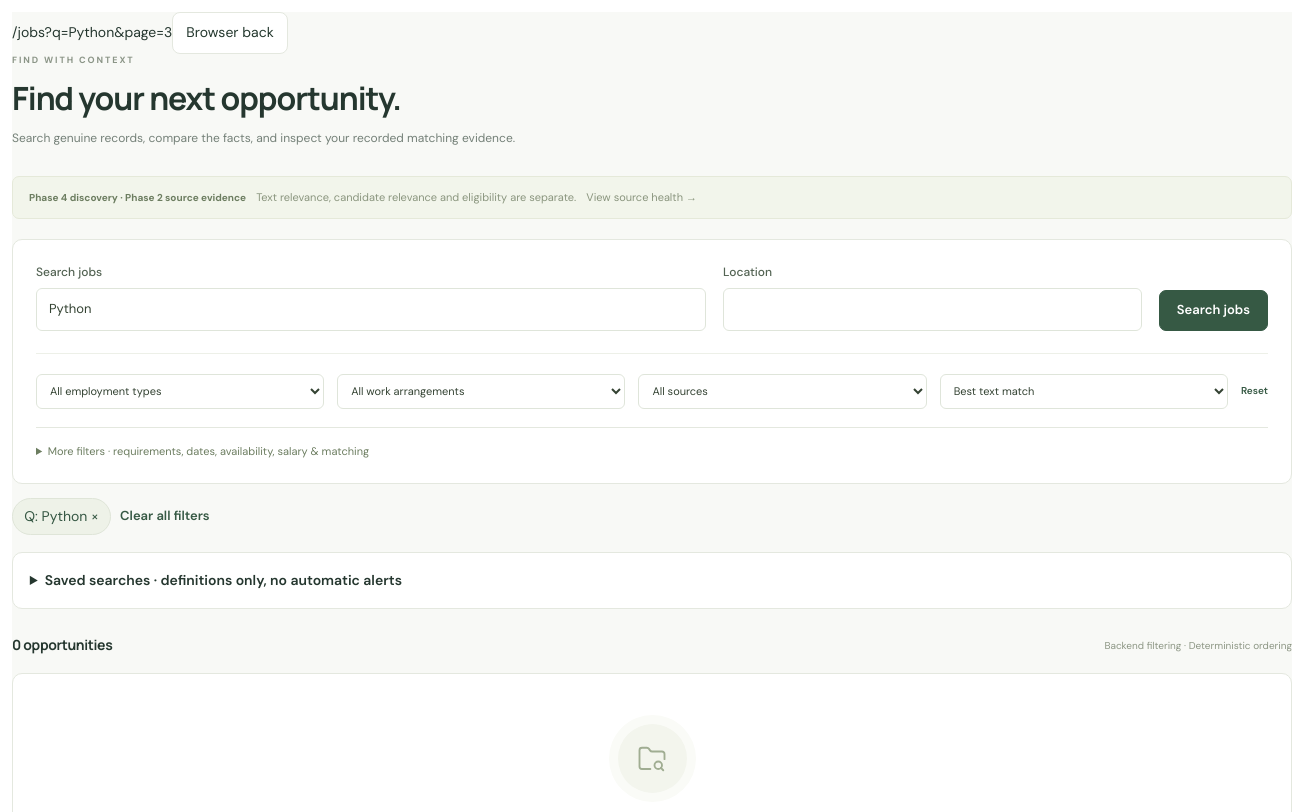
it: Phase 4 discovery with explicitly mocked HTTP › sorts and resets pagination while retaining active filters
Select "Best current candidate match" in the 4th dropdown named "Sort by" at (1084, 391), box [940,374,1228,409]
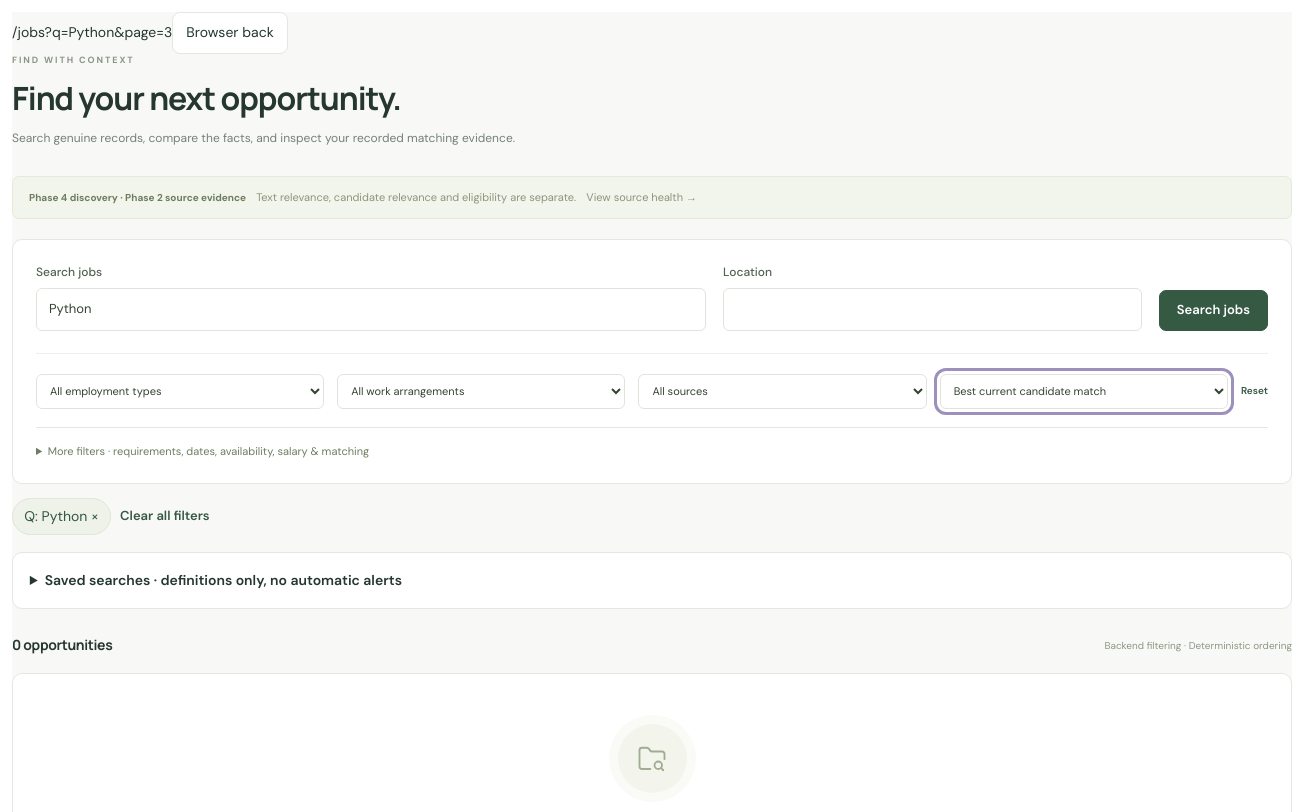
Select "Remote" in the 2nd dropdown named "Work arrangement" at (481, 391), box [337,374,625,409]
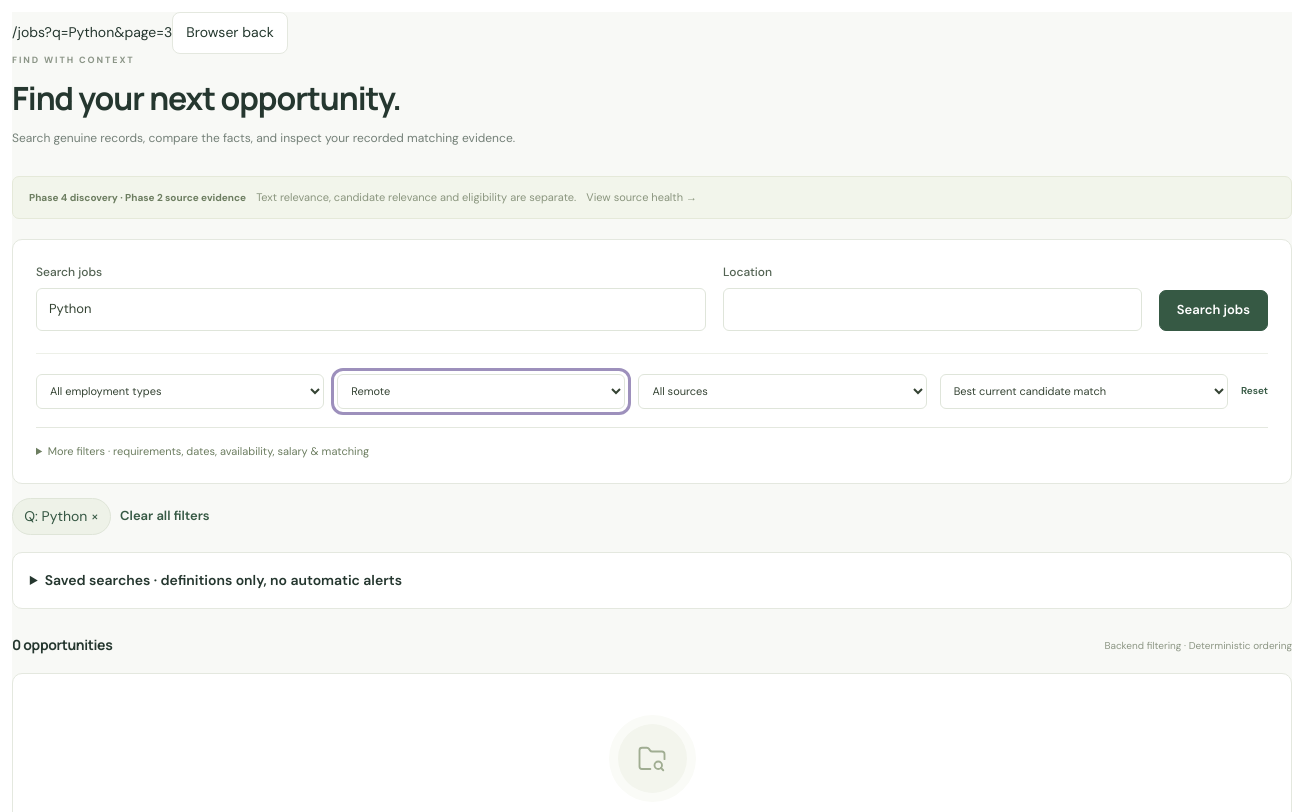
Click the button "Search jobs".
click(1213, 310)  # box [1159,290,1268,331]
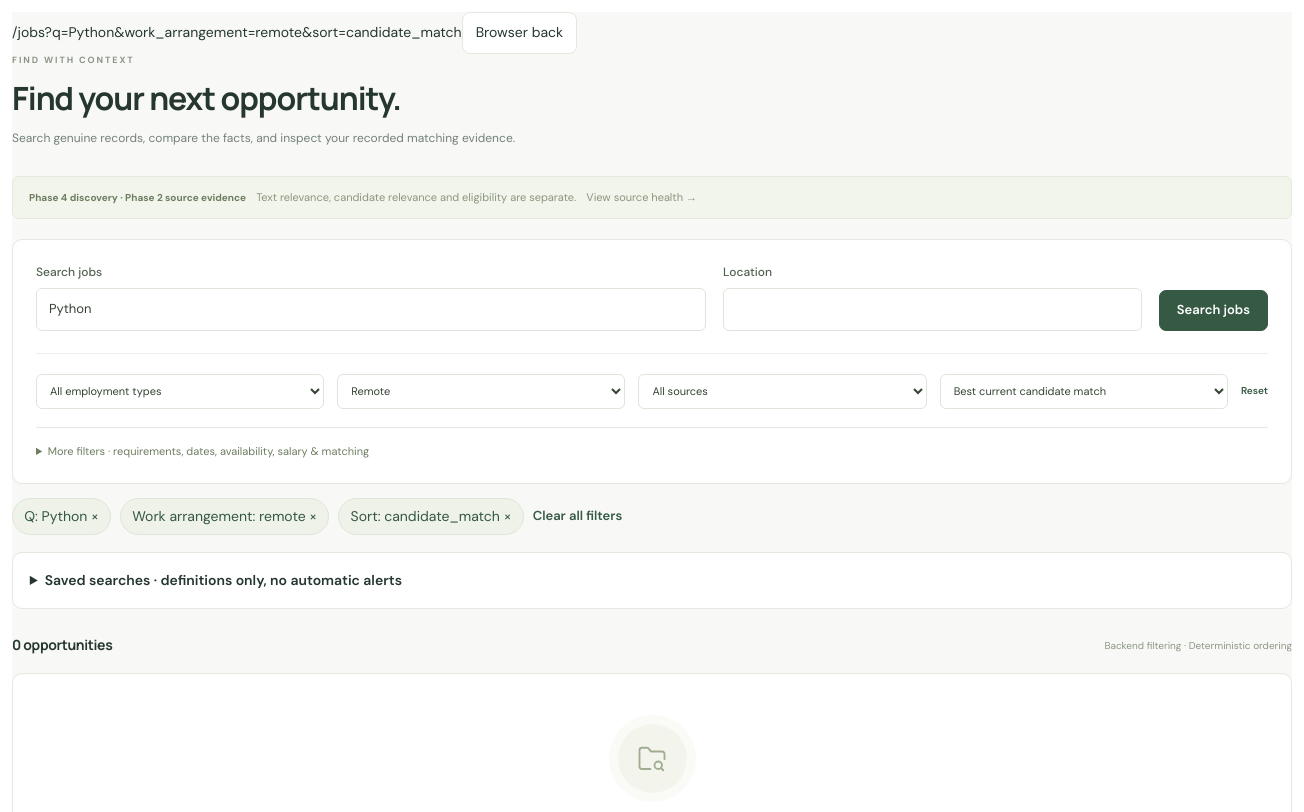
Expected: the text named "Current URL" shows "sort=candidate_match", [12,23,462,41]
Expected: the text named "Current URL" no longer shows "page=3", [12,23,462,41]
Click the button with aria-label "Remove Work arrangement filter".
click(225, 516)  # box [120,498,329,535]
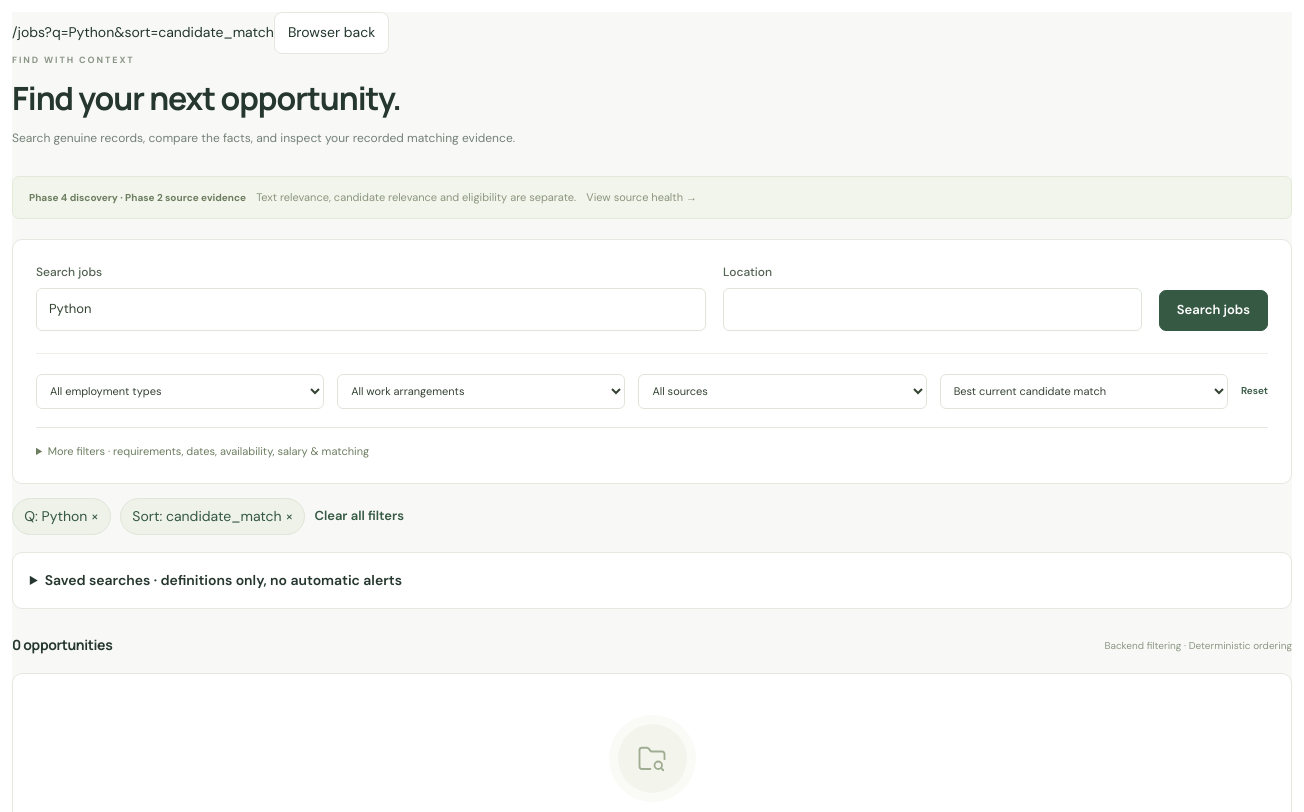
Expected: the text named "Current URL" no longer shows "work_arrangement", [12,23,274,41]
